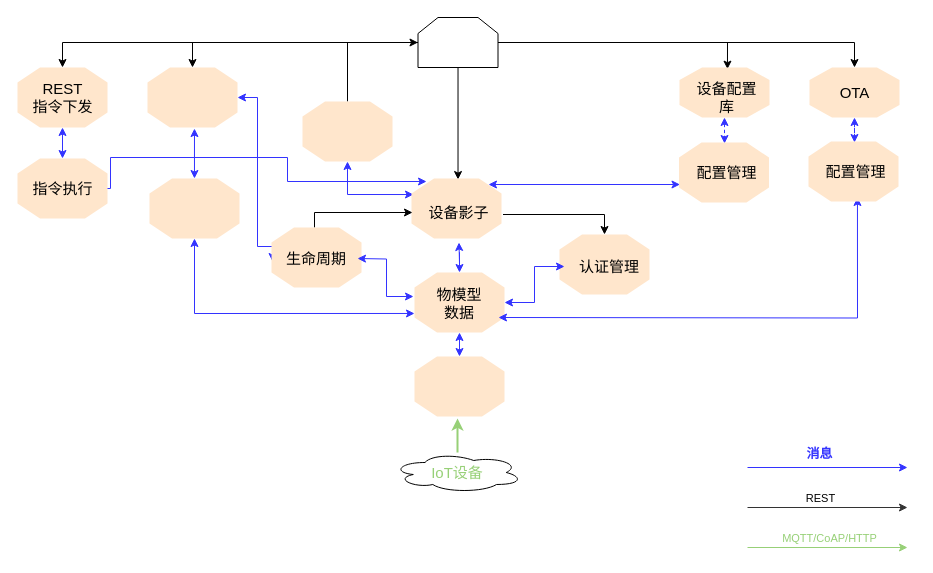
Some shapes in this 933 by 573 pixel diagram are drawn without their labels. Each missing label, with the centre of its shape:
"协议转换" belongs at [459,386].
"控制台" belongs at [457,42].
"数据采集" belongs at [194,208].
"时序数据" belongs at [192,97].
"规则引擎" belongs at [347,131].
